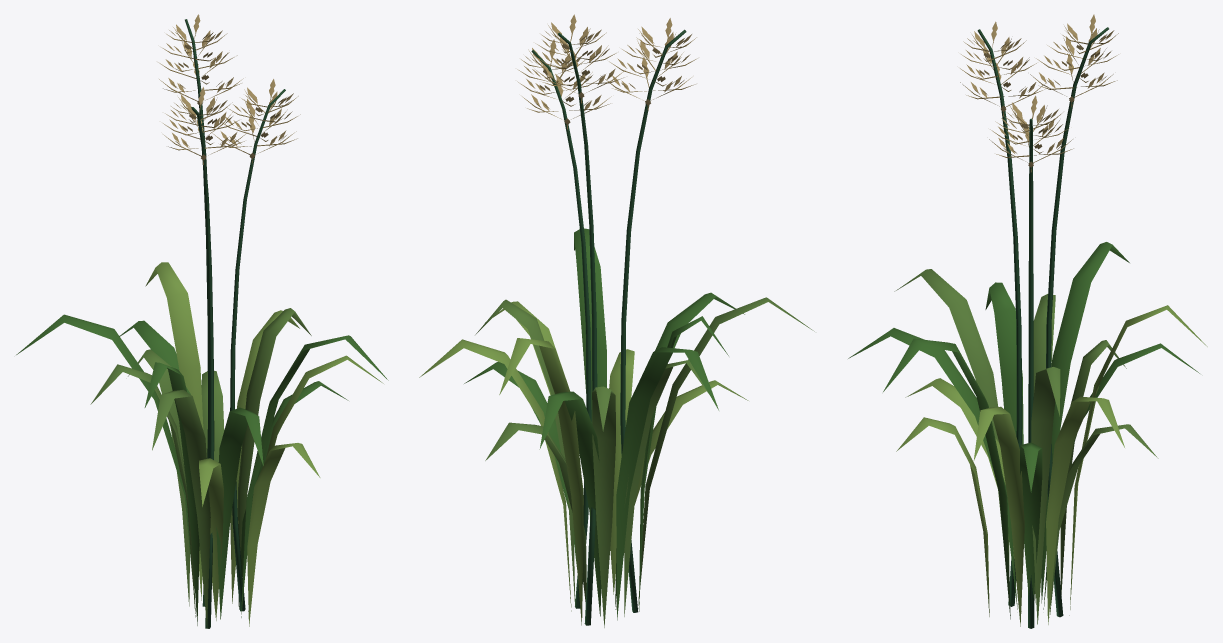
The model's file is meadow_reed.glb.
3 renders of one model, left to right at view 1: azimuth 30°, elevation 25°; view 2: azimuth 150°, elevation 25°; view 3: azimuth 270°, elevation 25°, orthographic. The views are drawn at different scales.
Parts seen in each view (by area): view 1: body; view 2: body; view 3: body.
Part boxes in pixels (x1,y1,x2,y2): body: (16,14,388,628); body: (419,14,814,627); body: (848,14,1207,628).
Size of the model in its own units: 0.5504 by 1.01 by 0.5621.
